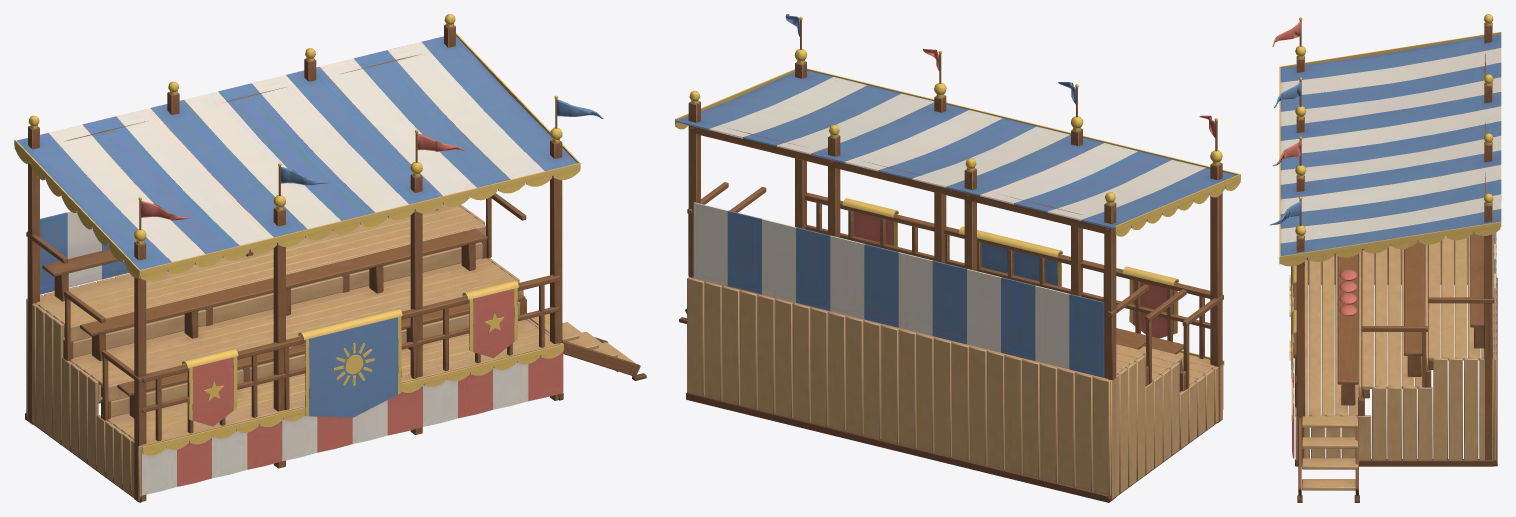
Rendered from grada_torneo.glb.
3 views of the same model, side by side, from view 1: azimuth 30°, elevation 25°; view 2: azimuth 150°, elevation 25°; view 3: azimuth 270°, elevation 25° (orthographic). The views are drawn at different scales.
Parts seen in each view (by area): view 1: tournament-stand_body; view 2: tournament-stand_body; view 3: tournament-stand_body.
Boxes of the visible parts, x1,y1,x2,y2 form: tournament-stand_body: [14, 14, 646, 502]; tournament-stand_body: [675, 14, 1240, 502]; tournament-stand_body: [1270, 14, 1501, 502].
Size of the model in its own units: 7.57 by 4.28 by 3.32.
Materials: 7 (1 with a texture image).
